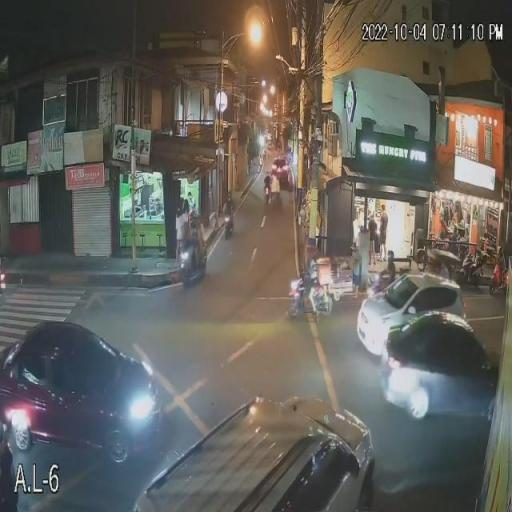helmet: (293, 241, 328, 260)
motorcycle: (286, 279, 341, 314)
rider: (298, 260, 319, 315)
